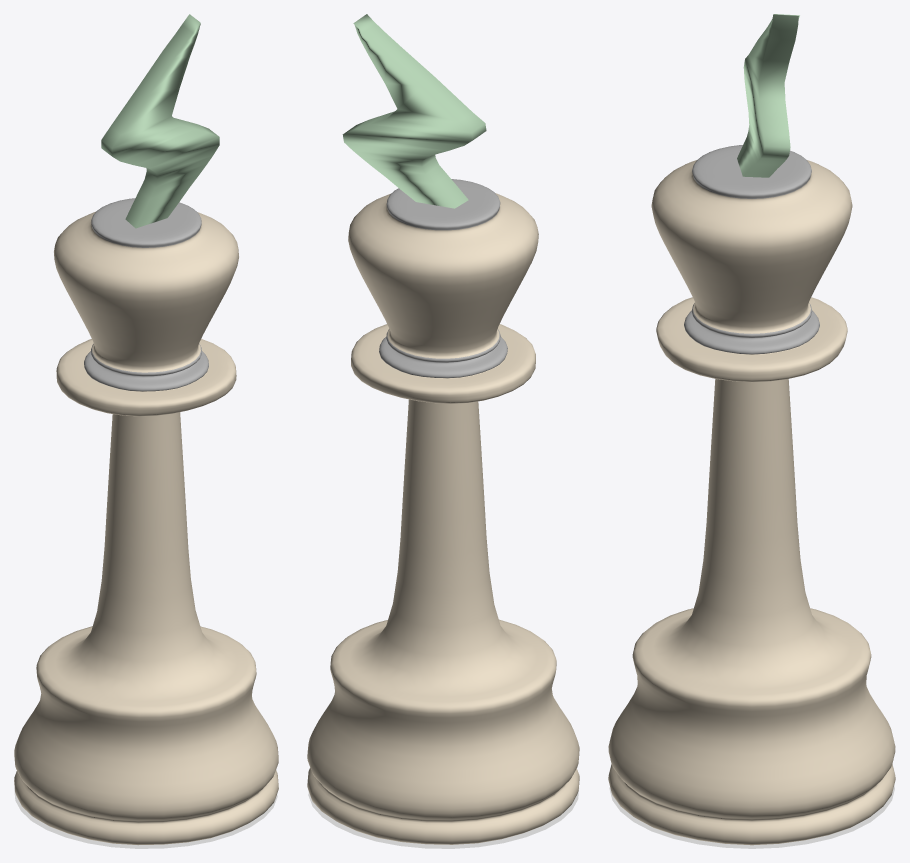
The model's file is Rei1.fbx.
3 renders of one model, left to right at view 1: azimuth 30°, elevation 25°; view 2: azimuth 150°, elevation 25°; view 3: azimuth 270°, elevation 25°, orthographic. The views are drawn at different scales.
Visible parts, largest first — view 1: Konge-m, Cube, Bonde-m.036; view 2: Konge-m, Cube, Bonde-m.036; view 3: Konge-m, Cube, Bonde-m.036.
Boxes of the visible parts, left/top/right/bottom form: Konge-m: left=14, top=198, right=278, bottom=845; Cube: left=101, top=14, right=219, bottom=228; Bonde-m.036: left=14, top=789, right=277, bottom=848; Konge-m: left=307, top=179, right=579, bottom=844; Cube: left=342, top=14, right=486, bottom=208; Bonde-m.036: left=308, top=789, right=578, bottom=848; Konge-m: left=608, top=145, right=895, bottom=845; Cube: left=737, top=14, right=799, bottom=177; Bonde-m.036: left=609, top=786, right=894, bottom=848.
Size of the model in its own units: 4.31 by 13.39 by 4.31.
